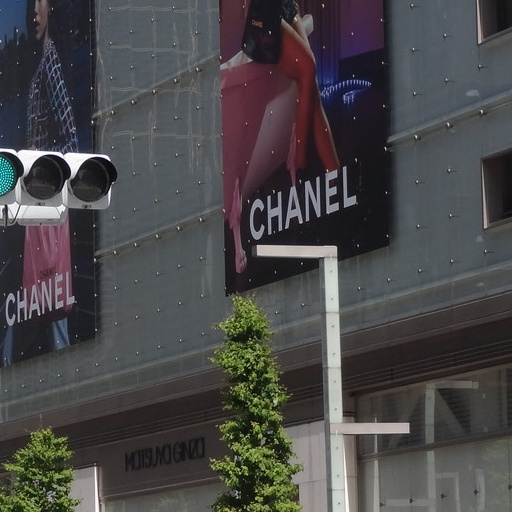Traffic_Signal_Blue: (1, 142, 113, 212)
